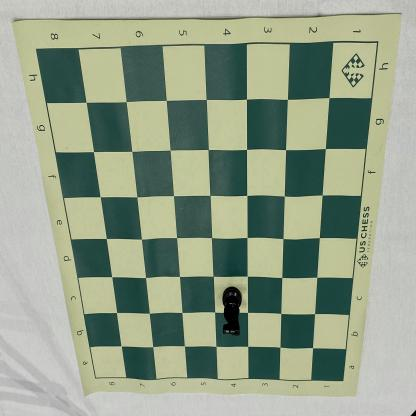black-knight: (221, 286, 243, 338)
